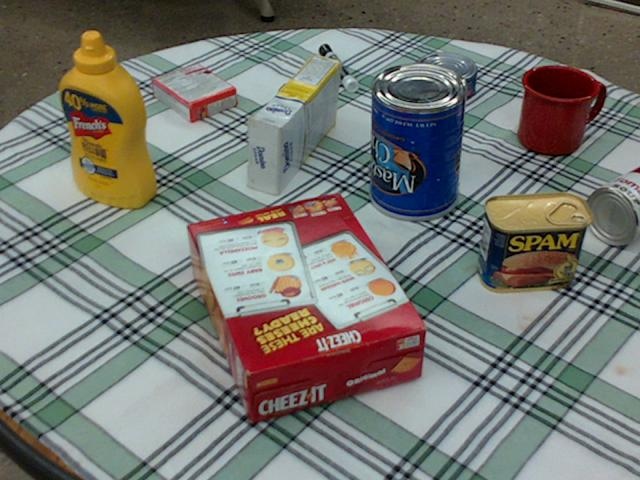cracker_box: (185, 193, 427, 423)
gelatin_box: (152, 64, 235, 122)
large_marker: (319, 43, 357, 91)
master_chef_can: (367, 62, 468, 218)
mug: (518, 65, 601, 155)
mustard_bottle: (59, 31, 155, 206)
potted_meat_can: (476, 191, 590, 292)
sugar_box: (248, 54, 339, 195)
tomato_soup_can: (585, 166, 639, 244)
tuna_fish_can: (414, 52, 477, 101)
